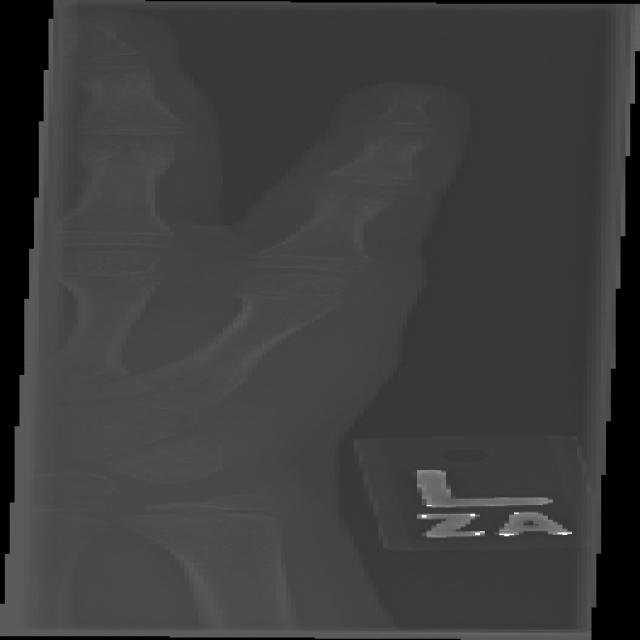fingers positive: (54, 120, 199, 185)
